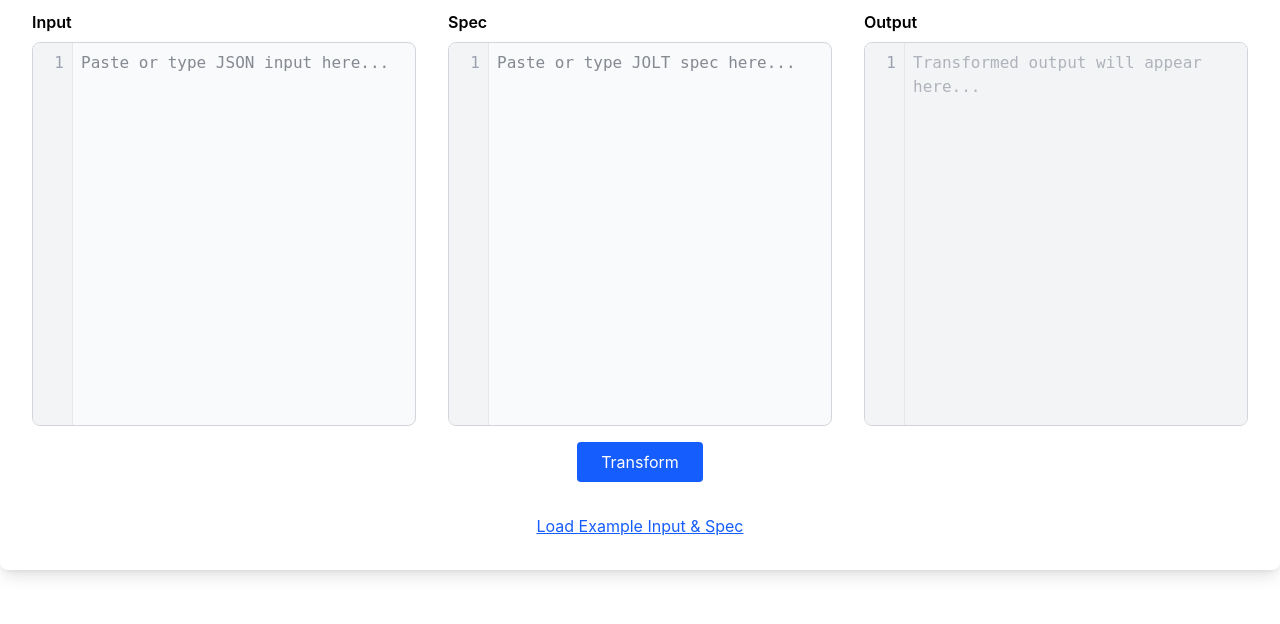
TransformPage › shows an error when the API returns a non-ok response
This screenshot has width=1280, height=624.
Click the button "Transform". click: (640, 462)
box: [577,442,703,482]
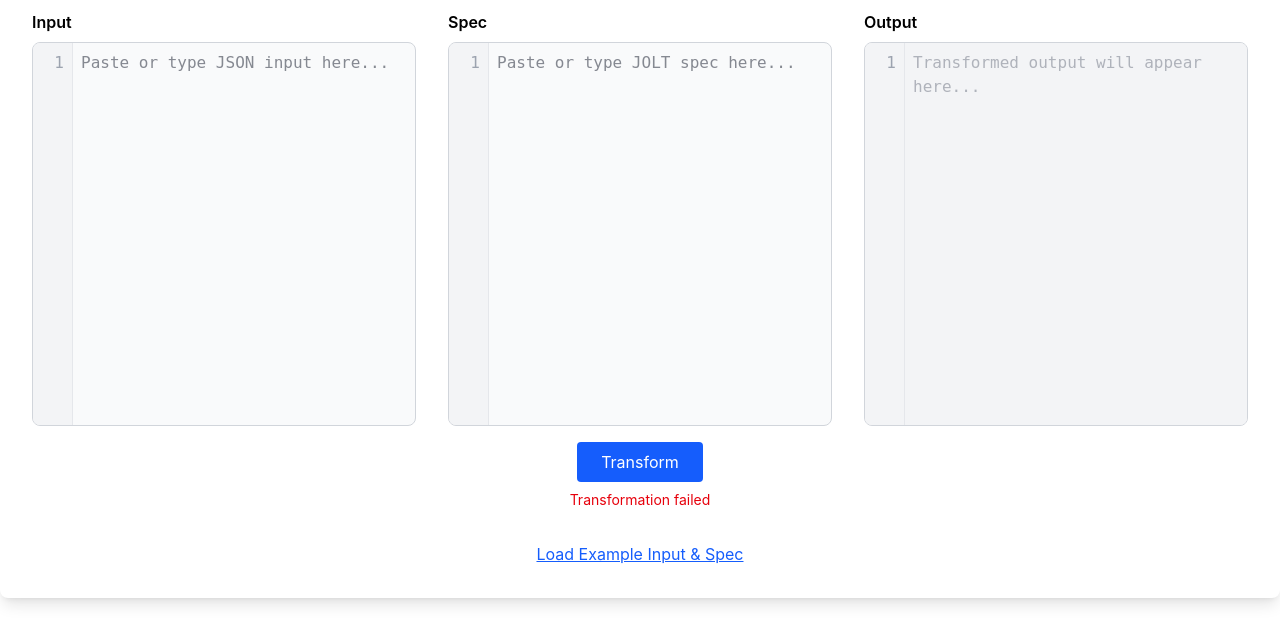
Now the text "Transformation failed" is shown, box [570,490,710,510]
